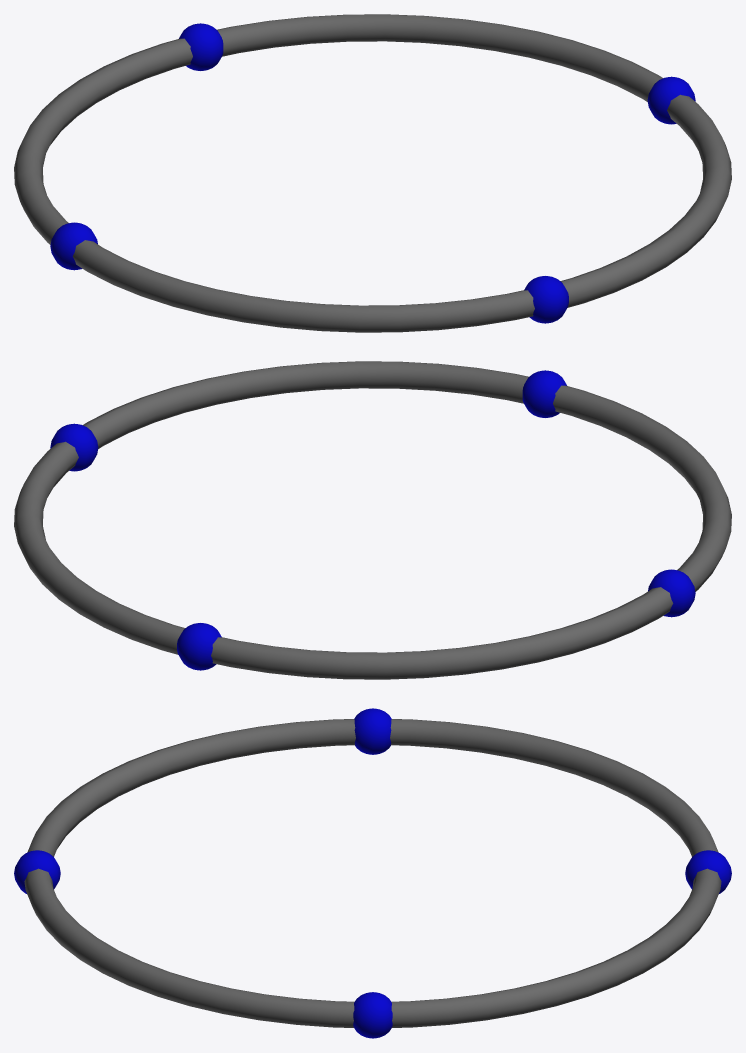
File: boss_eclipse_ring1.obj
3 views of the same model, one above another, from view 1: azimuth 30°, elevation 25°; view 2: azimuth 150°, elevation 25°; view 3: azimuth 270°, elevation 25° (orthographic). The views are drawn at different scales.
Parts seen in each view (by area): view 1: ring, knob; view 2: ring, knob; view 3: ring, knob.
Part boxes in pixels (x1=…): ring: x1=14, y1=14, x2=731, y2=332; knob: x1=50, y1=23, x2=695, y2=323; ring: x1=14, y1=361, x2=731, y2=679; knob: x1=50, y1=370, x2=695, y2=670; ring: x1=24, y1=719, x2=721, y2=1027; knob: x1=14, y1=708, x2=731, y2=1038.
Size of the model in its own units: 4.6 by 0.3 by 4.6.
